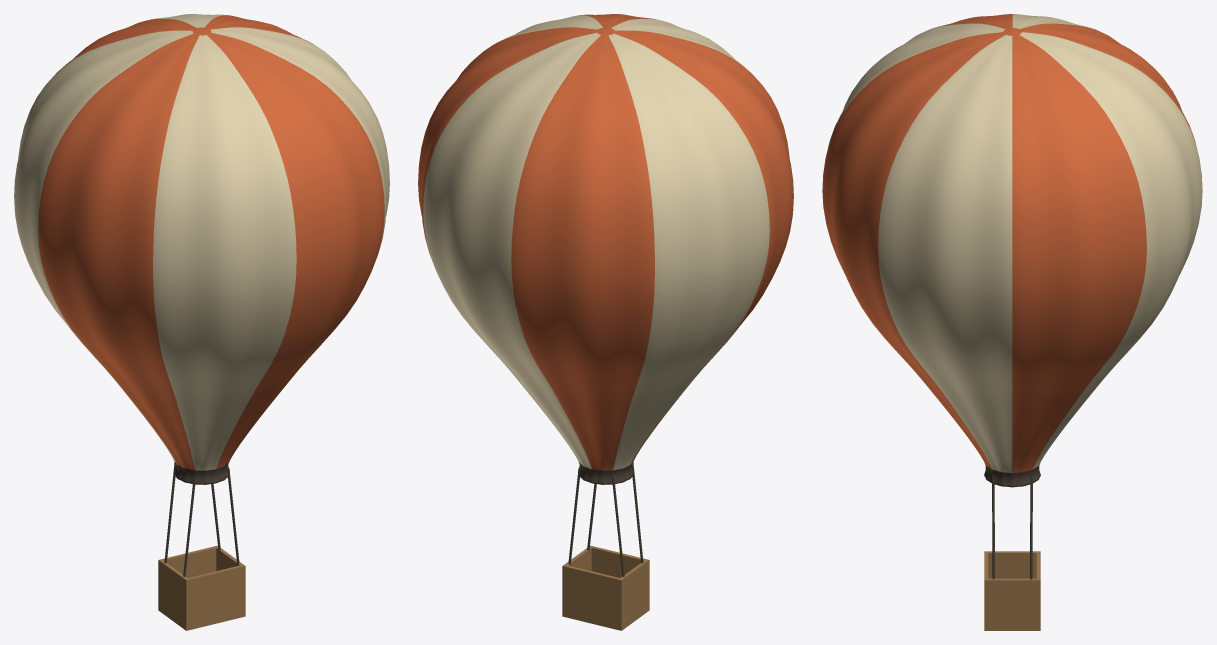
3 renders of one model, left to right at view 1: azimuth 30°, elevation 25°; view 2: azimuth 150°, elevation 25°; view 3: azimuth 270°, elevation 25°, orthographic.
Parts seen in each view (by area): view 1: Complete hot air balloon closed connected assembly; view 2: Complete hot air balloon closed connected assembly; view 3: Complete hot air balloon closed connected assembly.
Boxes of the visible parts, x1,y1,x2,y2 form: Complete hot air balloon closed connected assembly: (14,14,389,630); Complete hot air balloon closed connected assembly: (418,14,793,630); Complete hot air balloon closed connected assembly: (822,14,1202,630).
Bounding box in the file's own units: 2.44 × 4.14 × 2.44.
